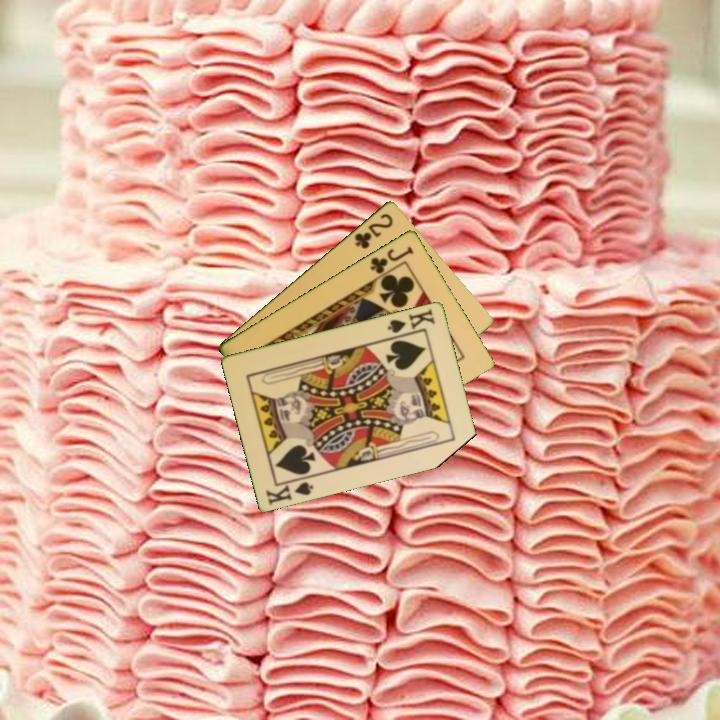2c: (351, 209, 396, 251)
Jc: (366, 242, 417, 277)
Ks: (262, 472, 317, 508), (384, 305, 438, 340)
